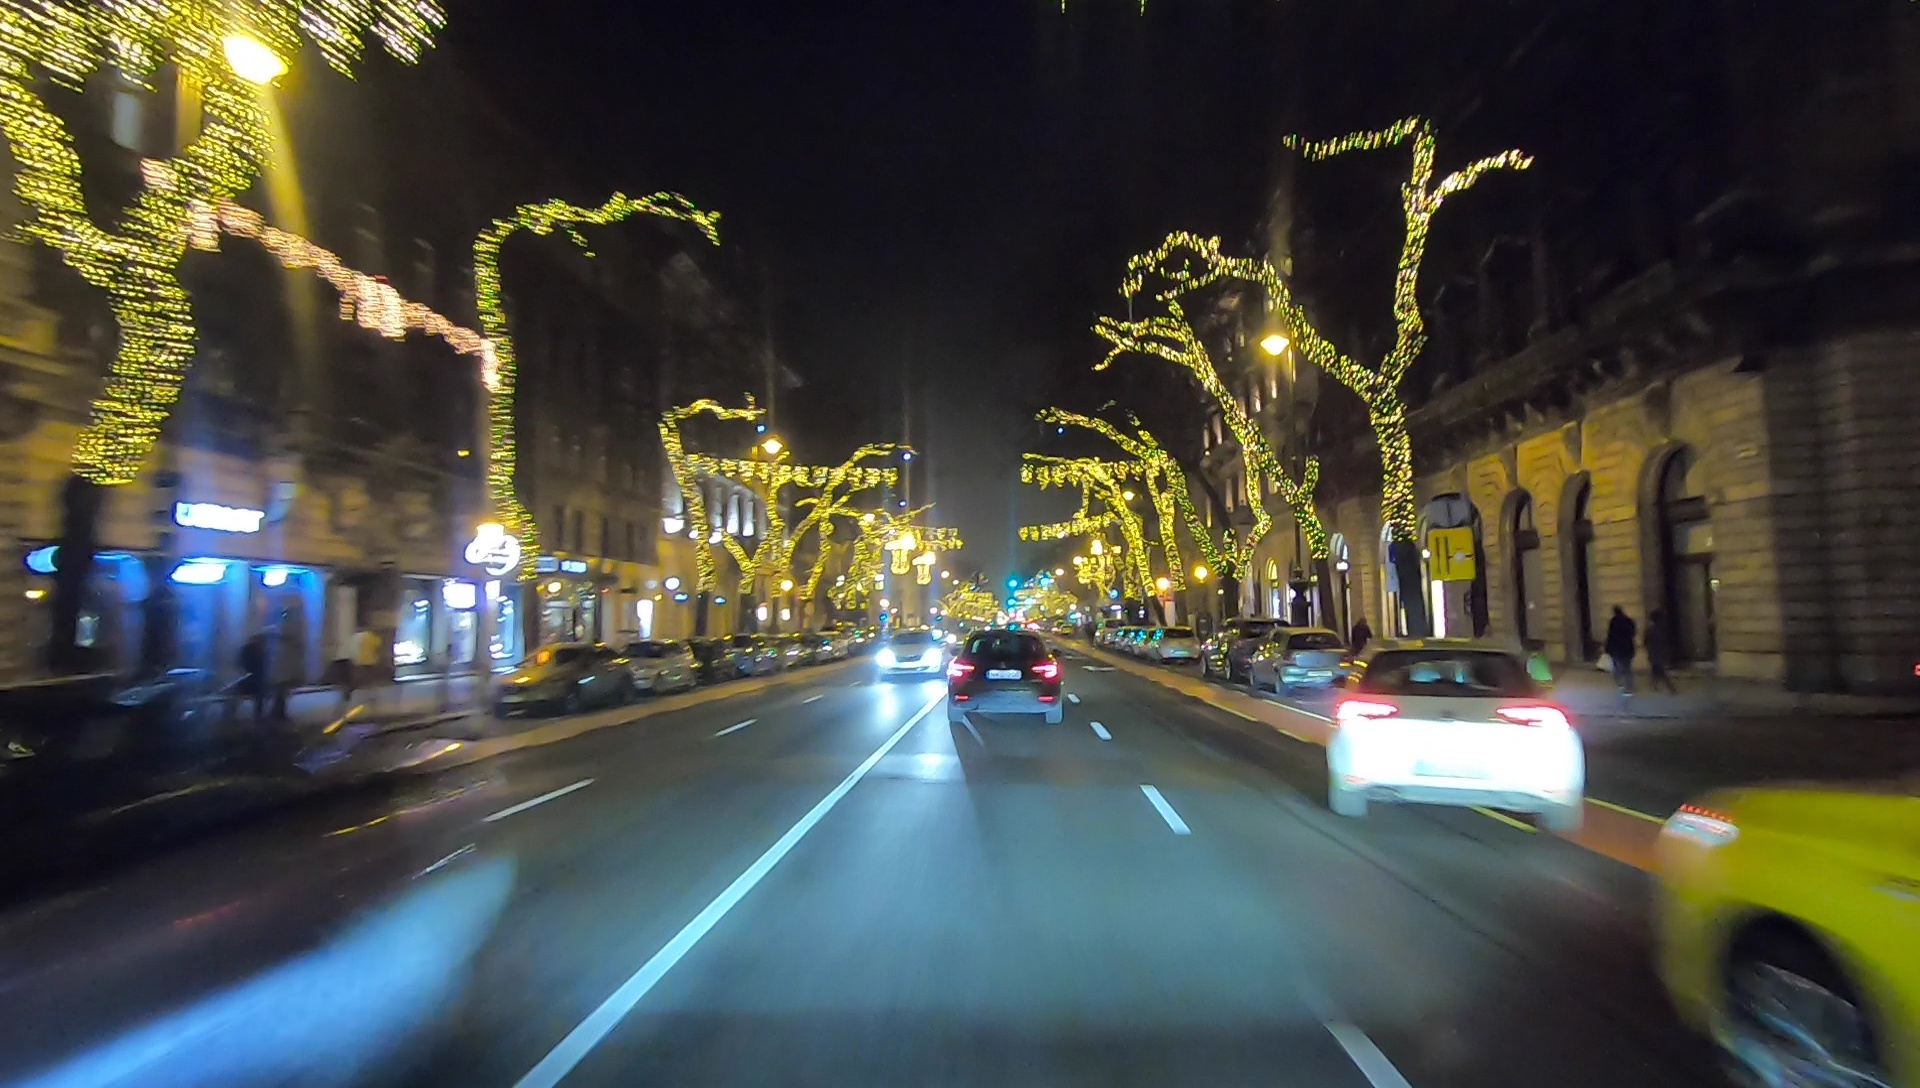person: (1604, 604, 1636, 697), (1645, 610, 1676, 687)
